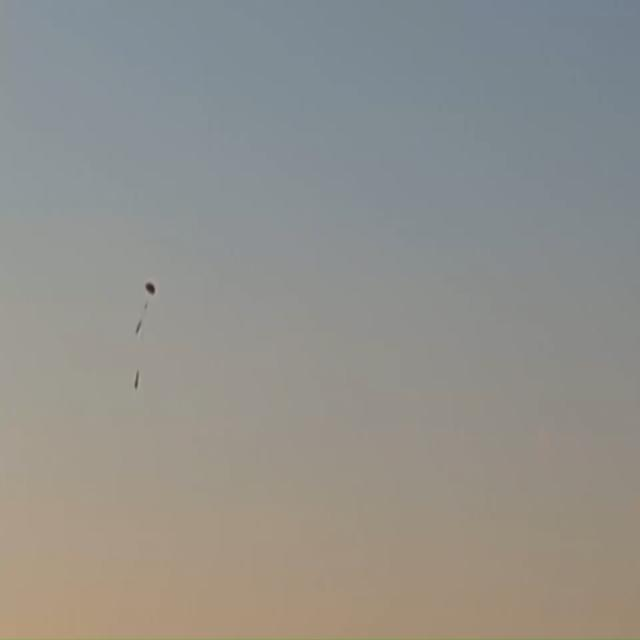Rocket: (134, 370, 139, 389)
